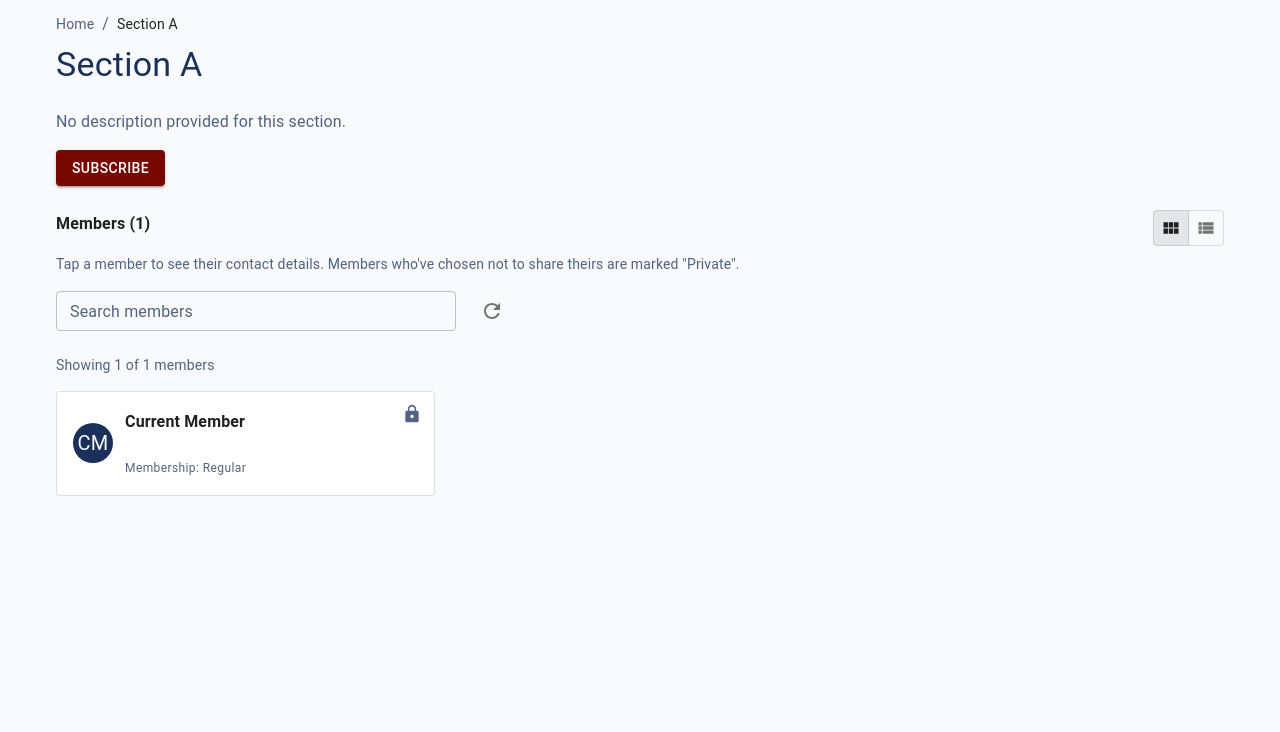
Test: SectionDetail authoritative read selection › subscription saves once and read-only recovery refreshes only the MEMBERS scope
The width and height of the screenshot is (1280, 732).
Expected: the heading "Current Member" is shown, [125,412,245,430]
Click the button "Subscribe": [111, 168] box [56,150,165,186]
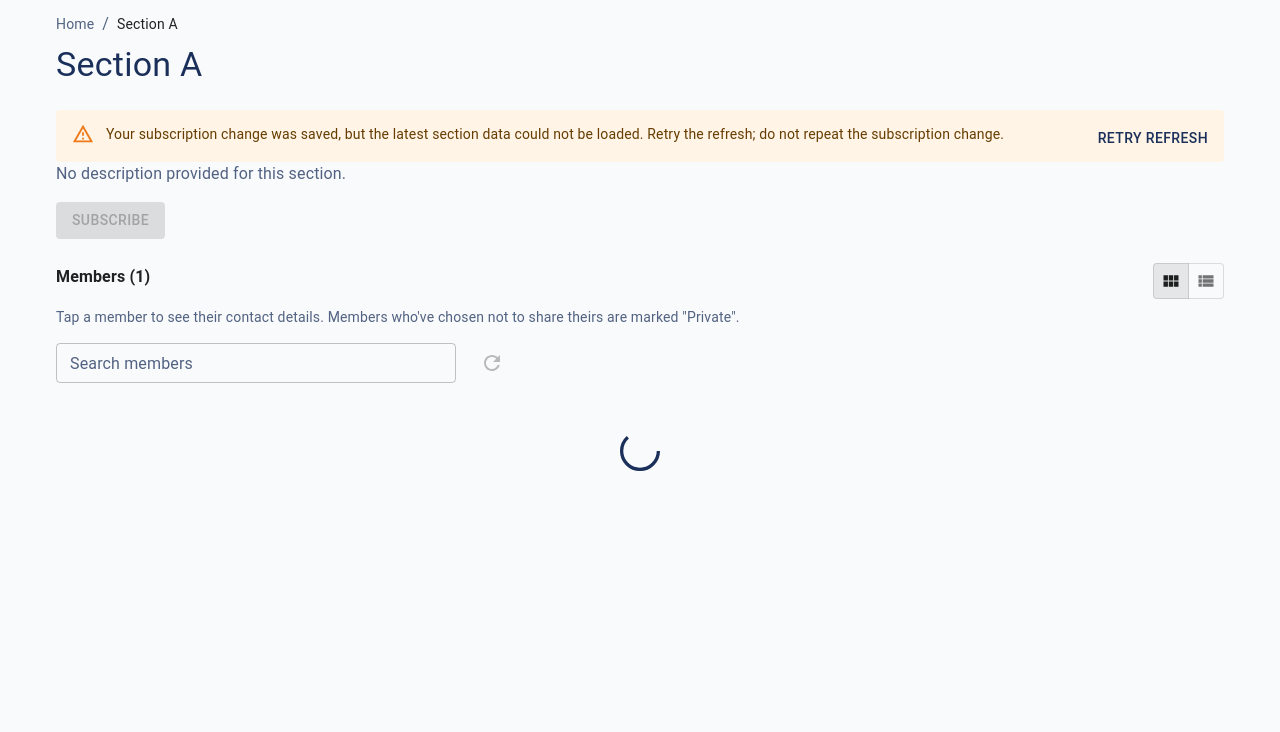
Expected: the text "Your subscription change was saved" is shown, [106,126,1004,142]
Click the button "Retry refresh": [1153, 138] box [1090,120,1216,156]
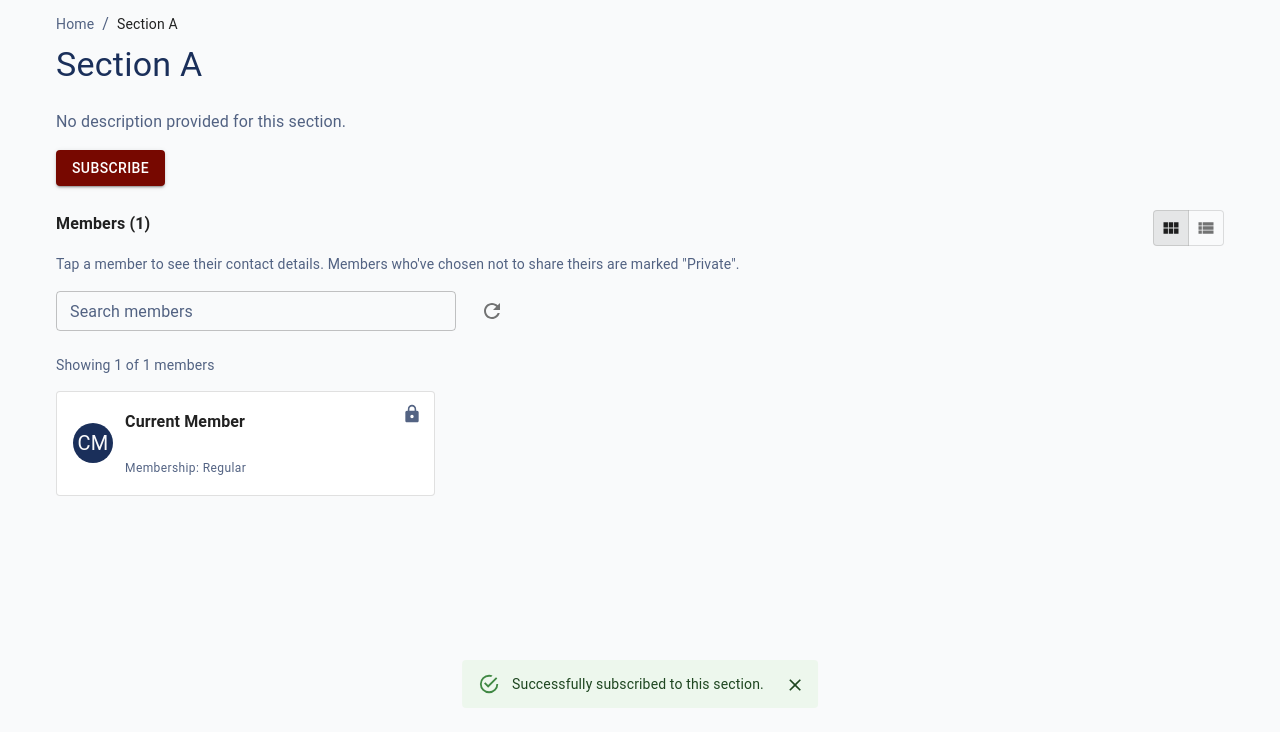
Expected: the text "Successfully subscribed to this section." is shown, [512,676,764,692]
